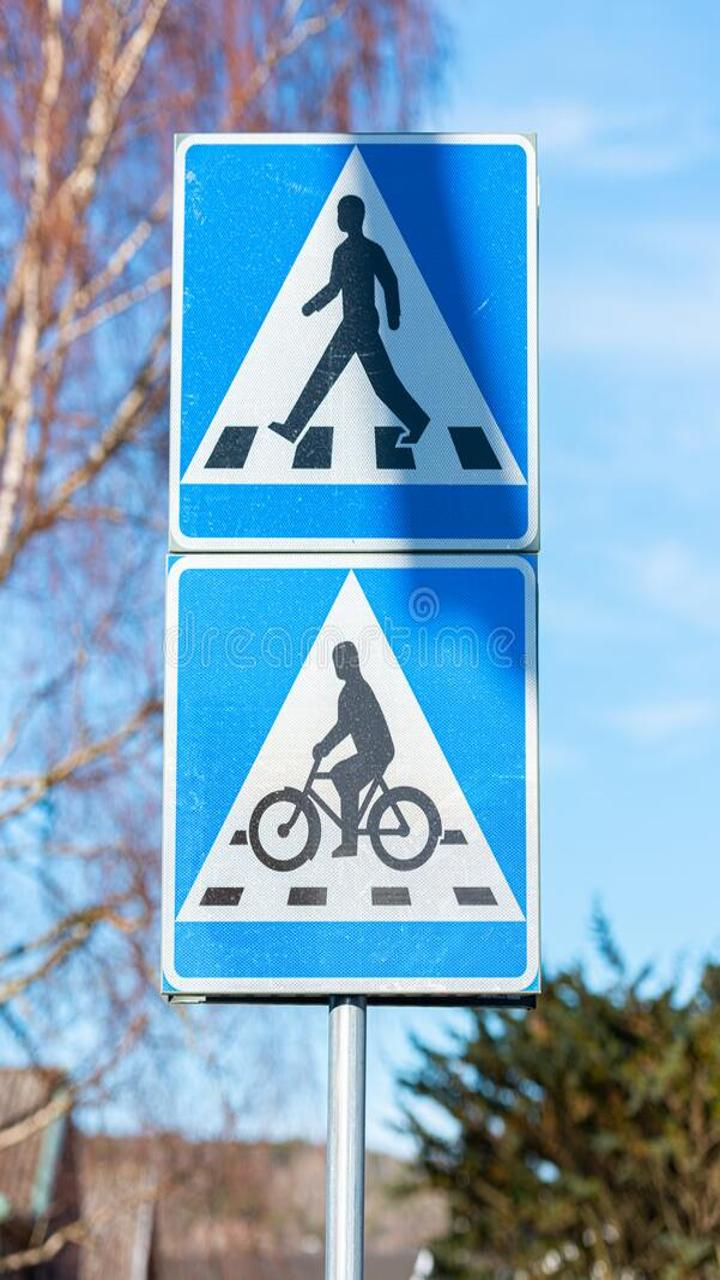Traffic sign: (172, 127, 544, 556), (170, 557, 542, 986)
